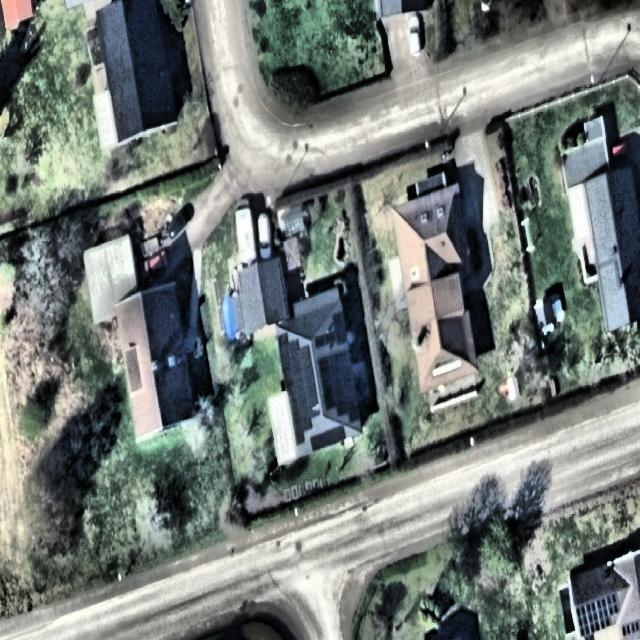roof_pv: (277, 334, 320, 446), (317, 347, 362, 428), (574, 588, 624, 640), (306, 422, 348, 456), (622, 620, 640, 636)
